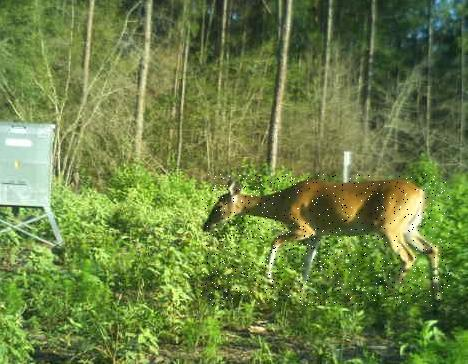Deer: (201, 174, 450, 306)
